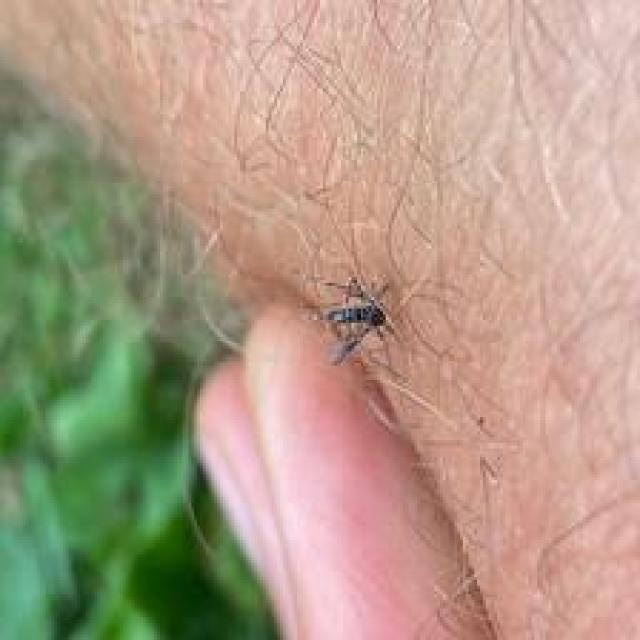Aedes albopictus: (312, 273, 397, 367)
